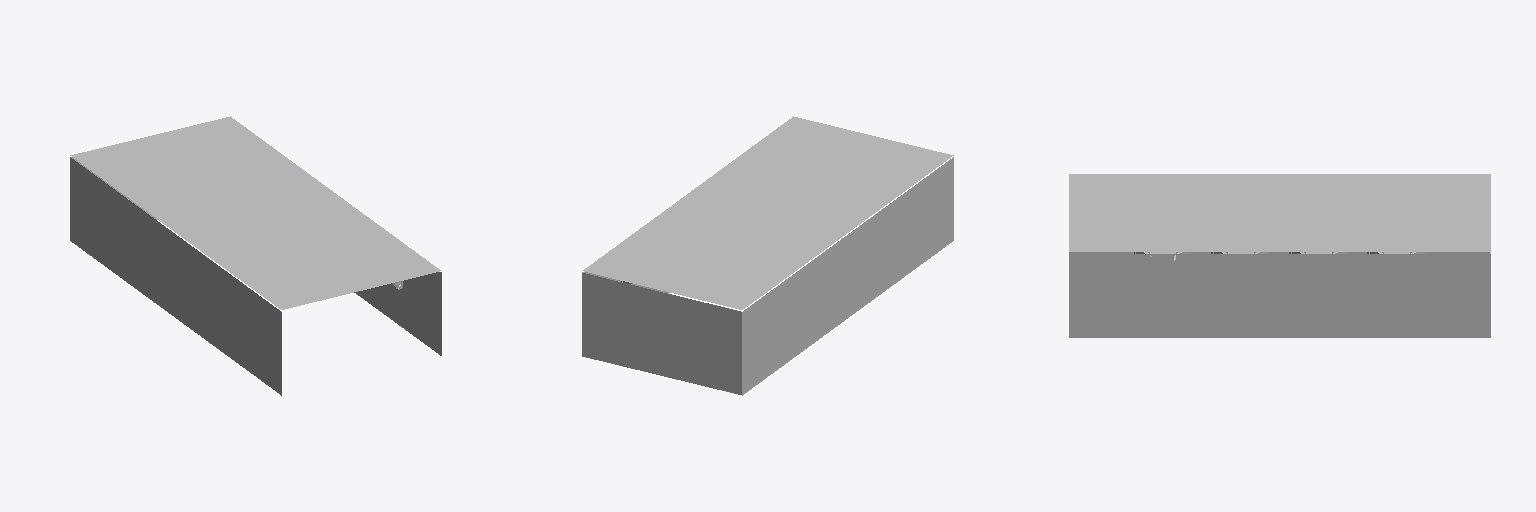
Rendered from room2.obj.
3 renders of one model, left to right at view 1: azimuth 30°, elevation 25°; view 2: azimuth 150°, elevation 25°; view 3: azimuth 270°, elevation 25°, orthographic.
Parts seen in each view (by area): view 1: Floor, PareteDx, PareteSx; view 2: Floor, PareteDx, PareteFronte; view 3: Floor, PareteSx, tables, ContornoPorta.
Part boxes in pixels (x1,y1,x2,y2): Floor: (70,116,440,309); PareteDx: (70,157,281,395); PareteSx: (354,272,441,355); Floor: (583,116,953,309); PareteDx: (742,157,953,395); PareteFronte: (582,273,741,394); Floor: (1069,174,1490,251); PareteSx: (1069,254,1490,337); tables: (1150,252,1409,274); ContornoPorta: (1143,254,1416,297).
Bounding box in the file's own units: 7 × 3.56 × 16.